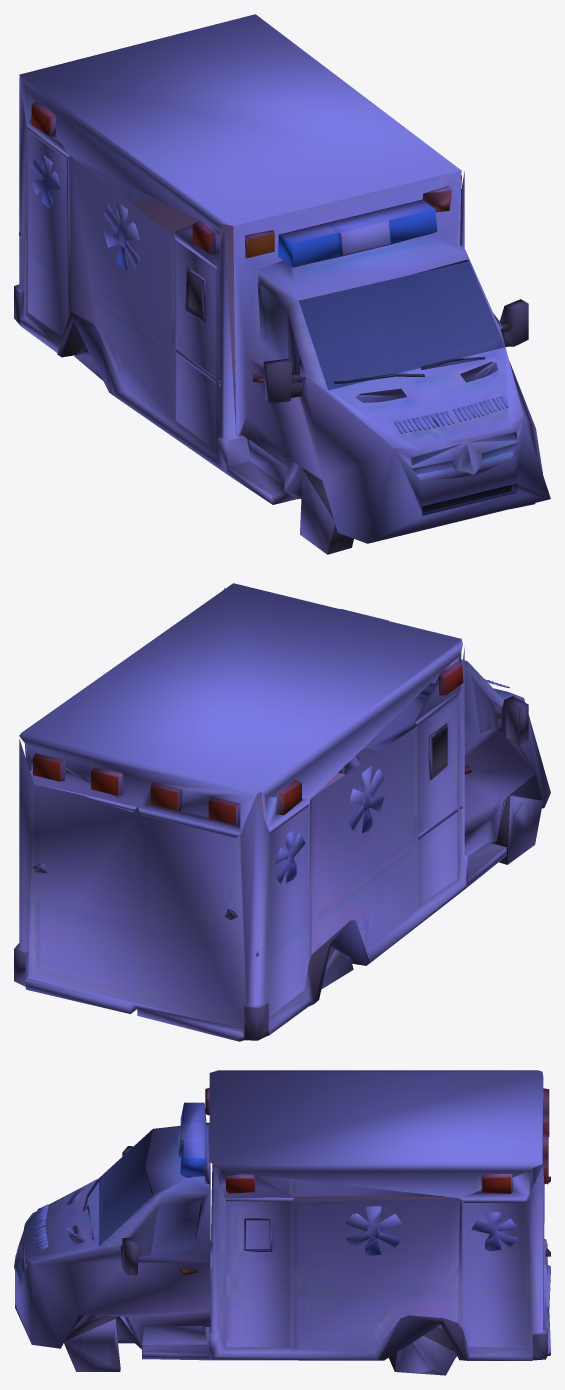
File: model.progressive.glb
3 views of the same model, one above another, from view 1: azimuth 30°, elevation 25°; view 2: azimuth 150°, elevation 25°; view 3: azimuth 270°, elevation 25° (orthographic). The views are drawn at different scales.
Parts seen in each view (by area): view 1: material; view 2: material; view 3: material.
Boxes of the visible parts, x1,y1,x2,y2 form: material: [14, 14, 550, 554]; material: [14, 583, 550, 1041]; material: [14, 1070, 550, 1375].
Size of the model in its own units: 0.8377 by 0.8534 by 1.89.
Materials: 1 (1 with a texture image).
